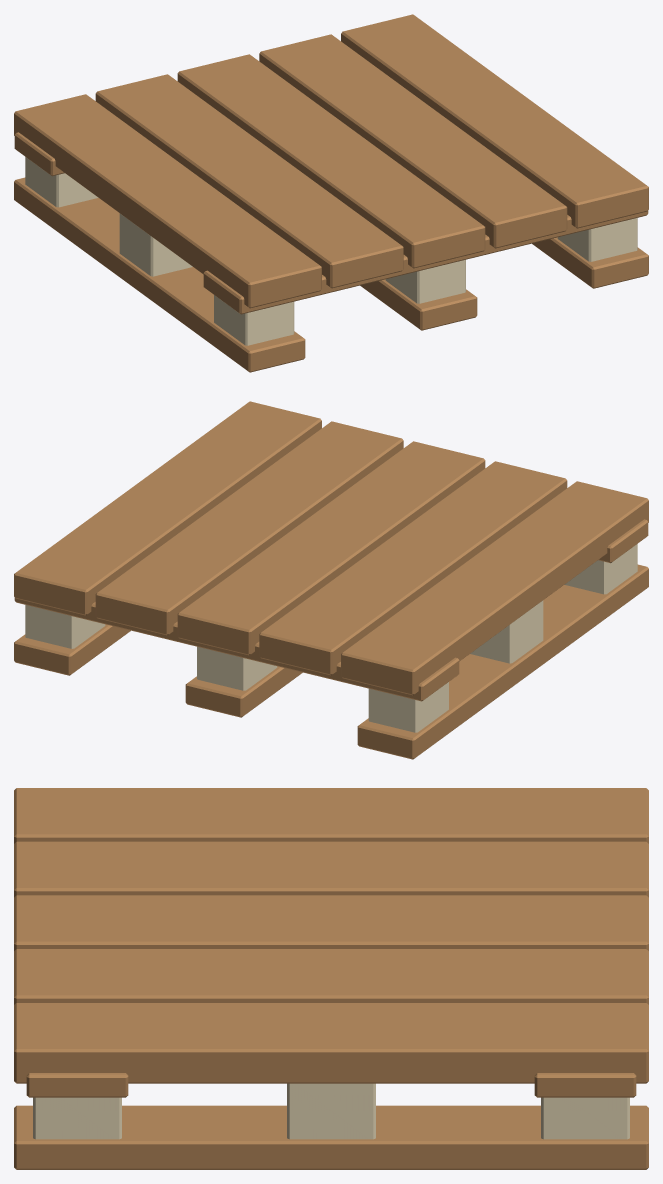
3 renders of one model, top to bottom at view 1: azimuth 30°, elevation 25°; view 2: azimuth 150°, elevation 25°; view 3: azimuth 270°, elevation 25°, orthographic. The views are drawn at different scales.
Parts seen in each view (by area): view 1: logistics-wood-pallet-01; view 2: logistics-wood-pallet-01; view 3: logistics-wood-pallet-01.
Part boxes in pixels (left/top/right/bottom): logistics-wood-pallet-01: left=14, top=14, right=648, bottom=372; logistics-wood-pallet-01: left=14, top=401, right=648, bottom=759; logistics-wood-pallet-01: left=14, top=788, right=648, bottom=1169.
Size of the model in its own units: 1 by 0.21 by 1.
